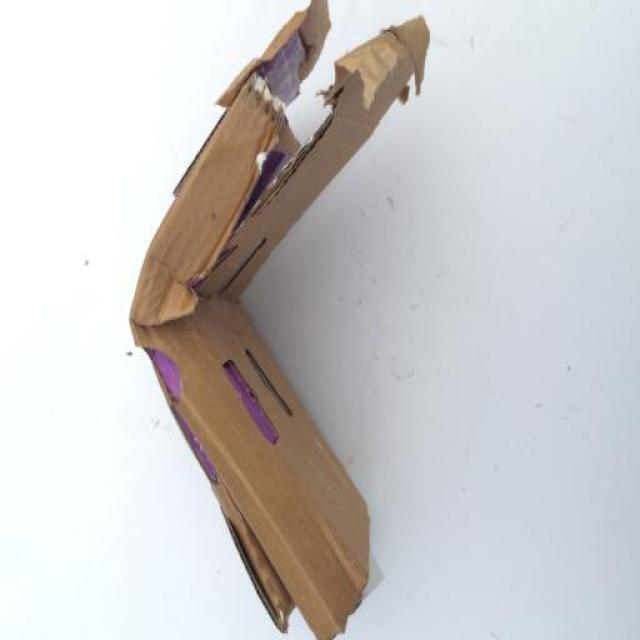cardboard: (128, 0, 432, 640)
